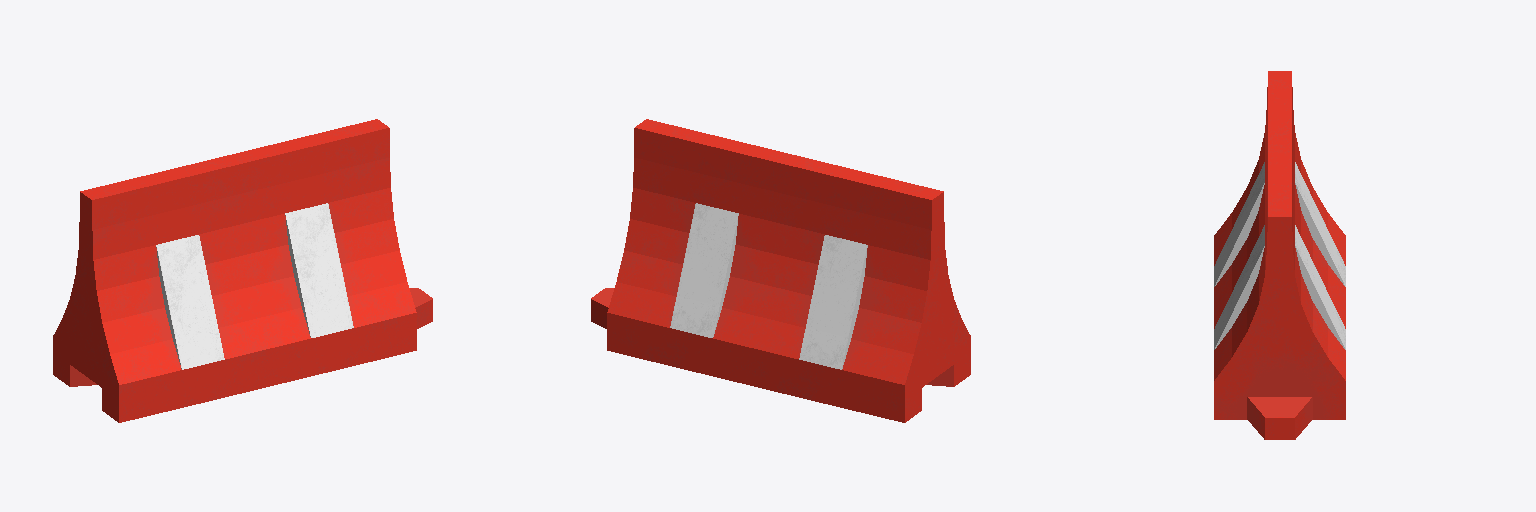
3 renders of one model, left to right at view 1: azimuth 30°, elevation 25°; view 2: azimuth 150°, elevation 25°; view 3: azimuth 270°, elevation 25°, orthographic.
Parts seen in each view (by area): view 1: block_red_Cube, Object001; view 2: block_red_Cube, Object001; view 3: block_red_Cube, Object001.
Part boxes in pixels (x1,y1,x2,y2): block_red_Cube: (53,119,432,422); Object001: (156,203,353,369); block_red_Cube: (591,119,970,422); Object001: (670,203,867,369); block_red_Cube: (1214,71,1345,439); Object001: (1214,162,1345,349).
Size of the model in its own units: 2.63 by 1.5 by 0.8904.
Materials: 2 (2 with a texture image).